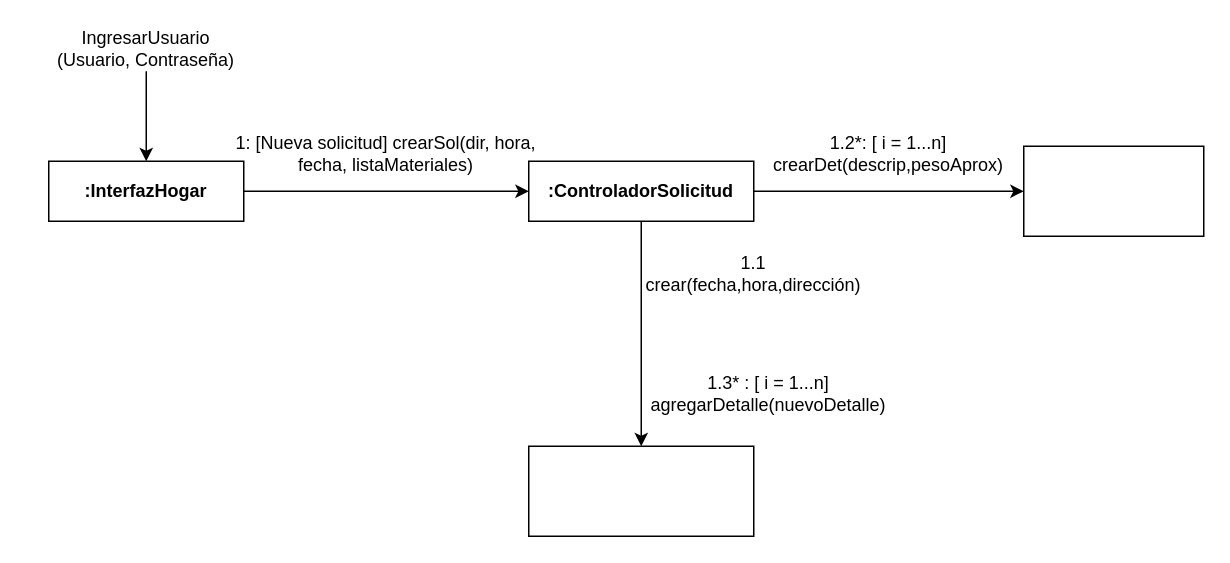
Some shapes in this 1230 by 563 pixel diagram are drawn without their labels. The shapes that lost their labels are listed below. From the top down, each one's box as (x1, y1, x2, y2) in pixels, then its label:
(1022, 145, 1204, 236): nuevoDetalle :DetalleMaterial
(527, 445, 754, 536): nuevaSolicitud :SolicitudDeRecoleccion
